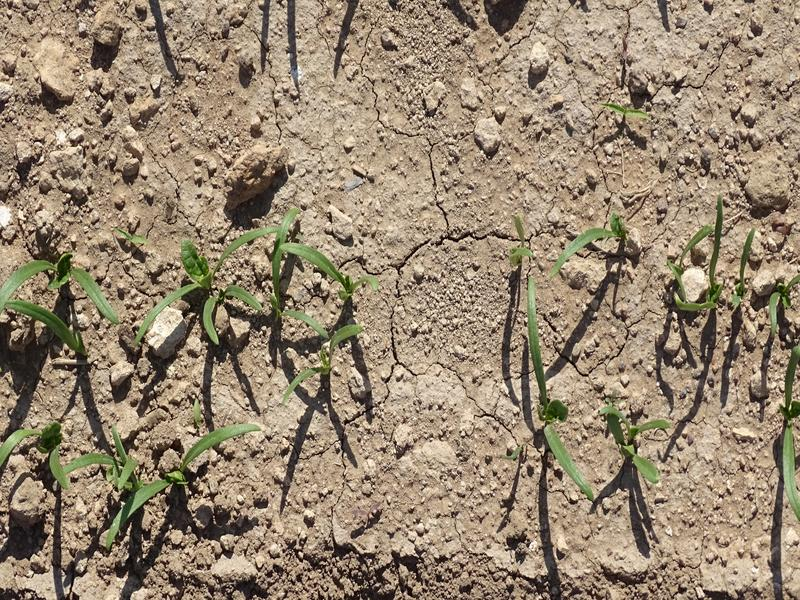Espinaca: (129, 235, 367, 387), (5, 413, 264, 533), (523, 278, 597, 500), (671, 213, 800, 322), (1, 252, 120, 350), (547, 211, 636, 270), (602, 399, 664, 483), (774, 343, 798, 521)
